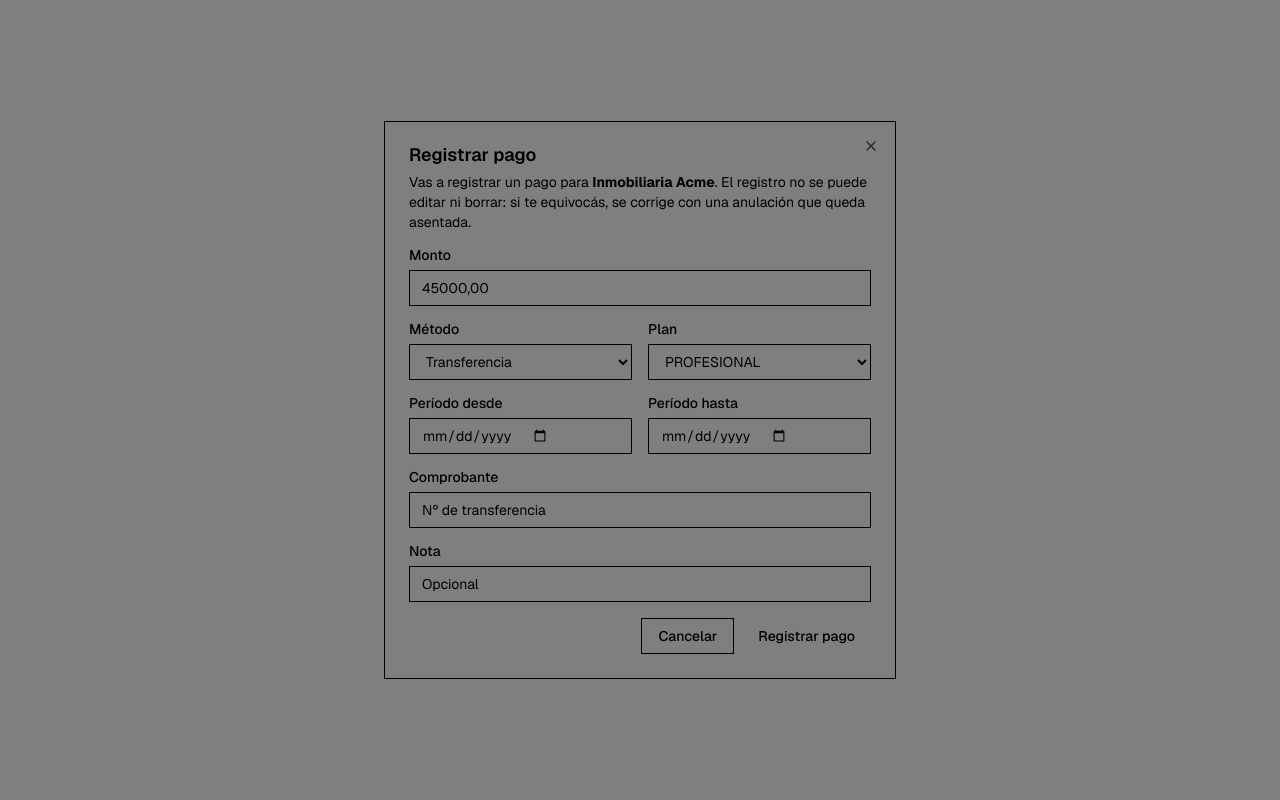
Scenario: RecordPaymentDialog › rejects an inverted period inline without submitting
The width and height of the screenshot is (1280, 800).
In the field labelled "Monto": [640, 288] box [409,270,871,306], type "45000"
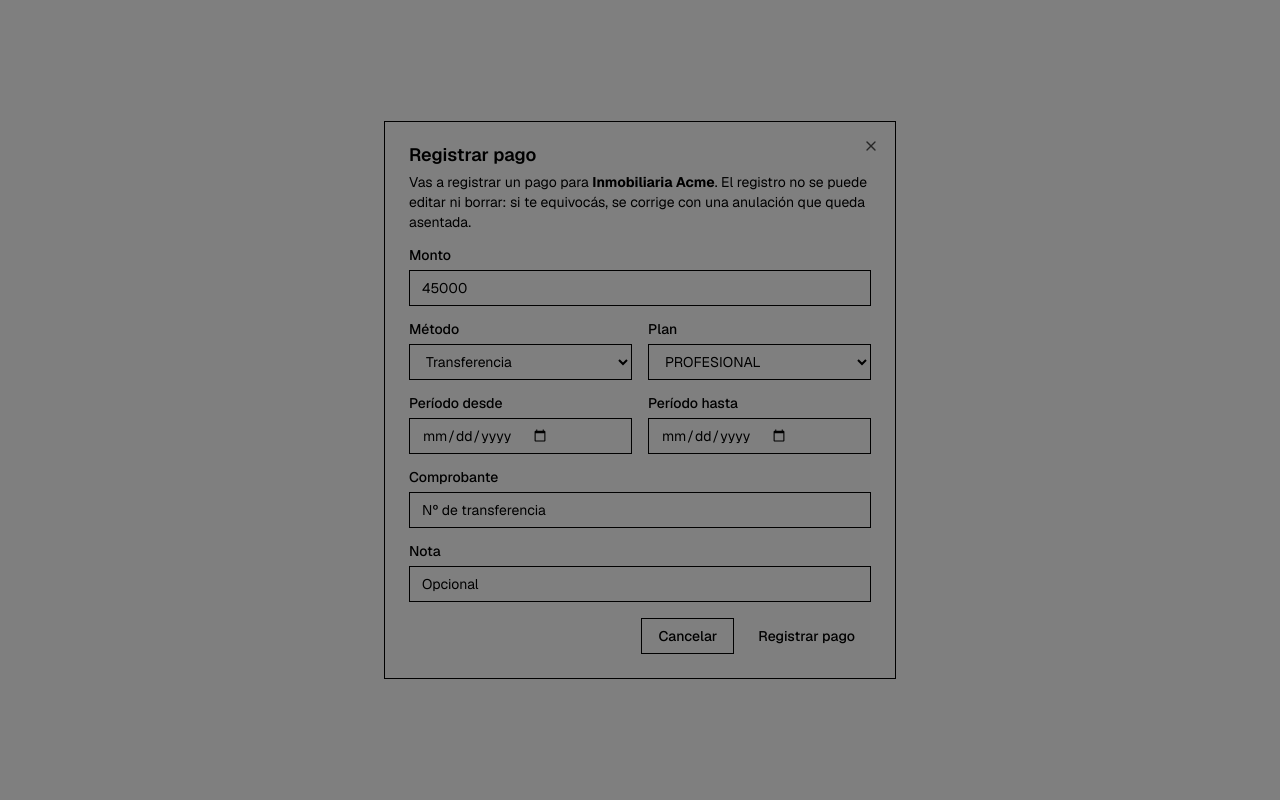
In the date field labelled "Período desde": [520, 436] box [409,418,632,454], type "2026-08-31"
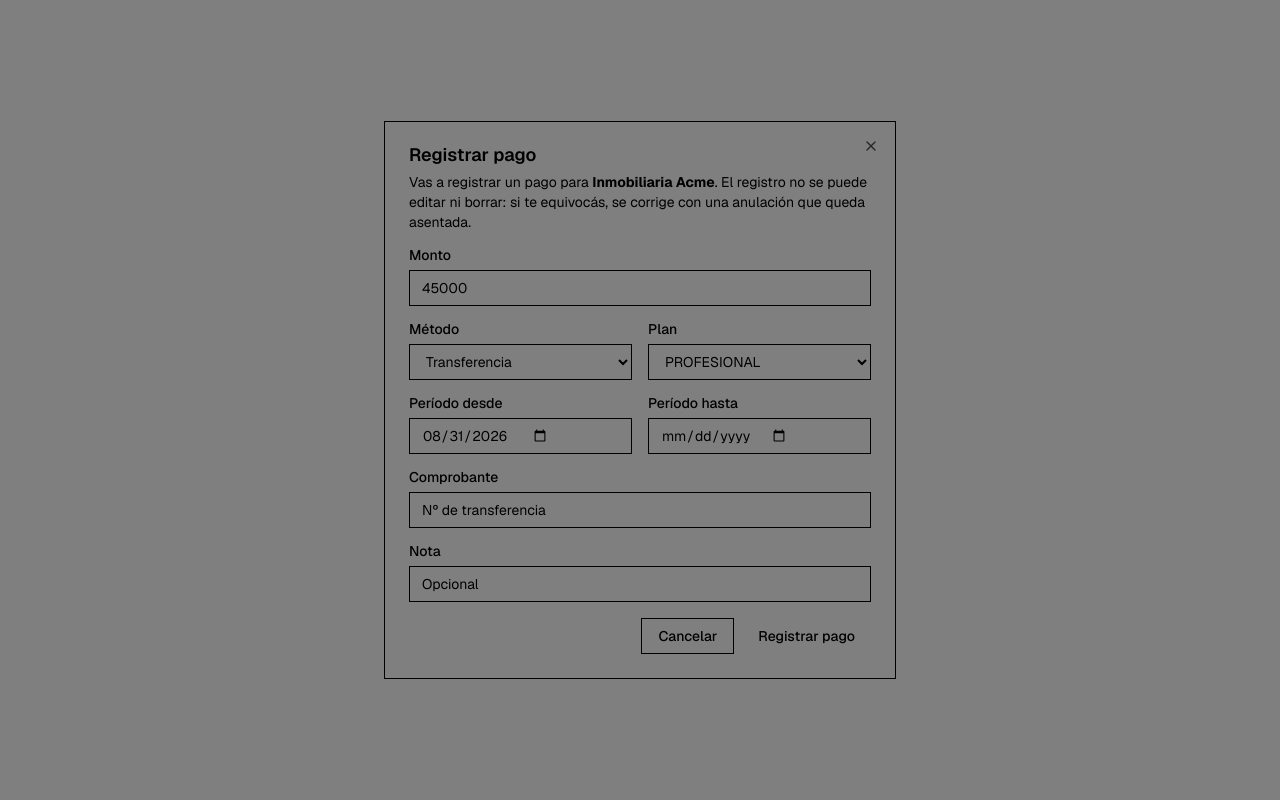
In the date field labelled "Período hasta": [760, 436] box [648,418,871,454], type "2026-08-01"
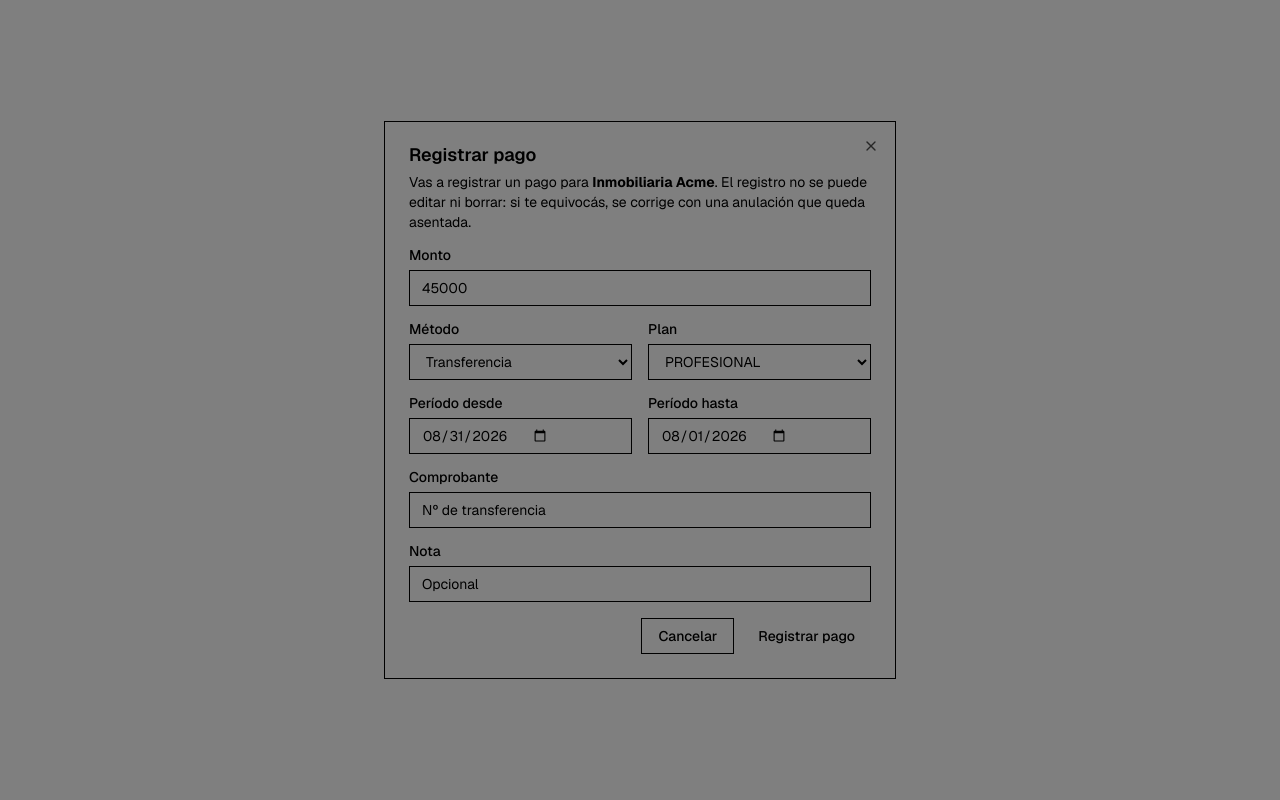
Click the button "Registrar pago": [807, 636] box [742,618,871,654]
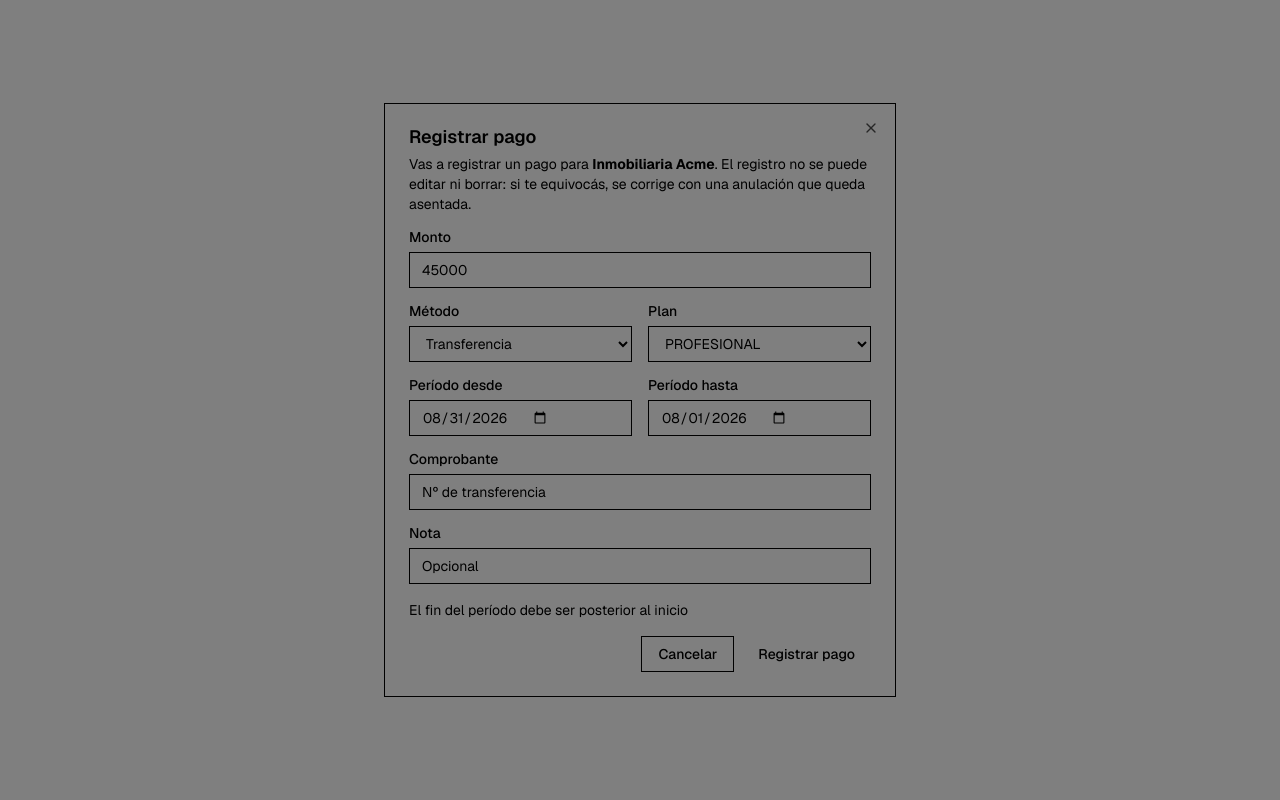
expect the message "El fin del período debe ser posterior al inicio" is shown: met, box [409,601,688,619]
